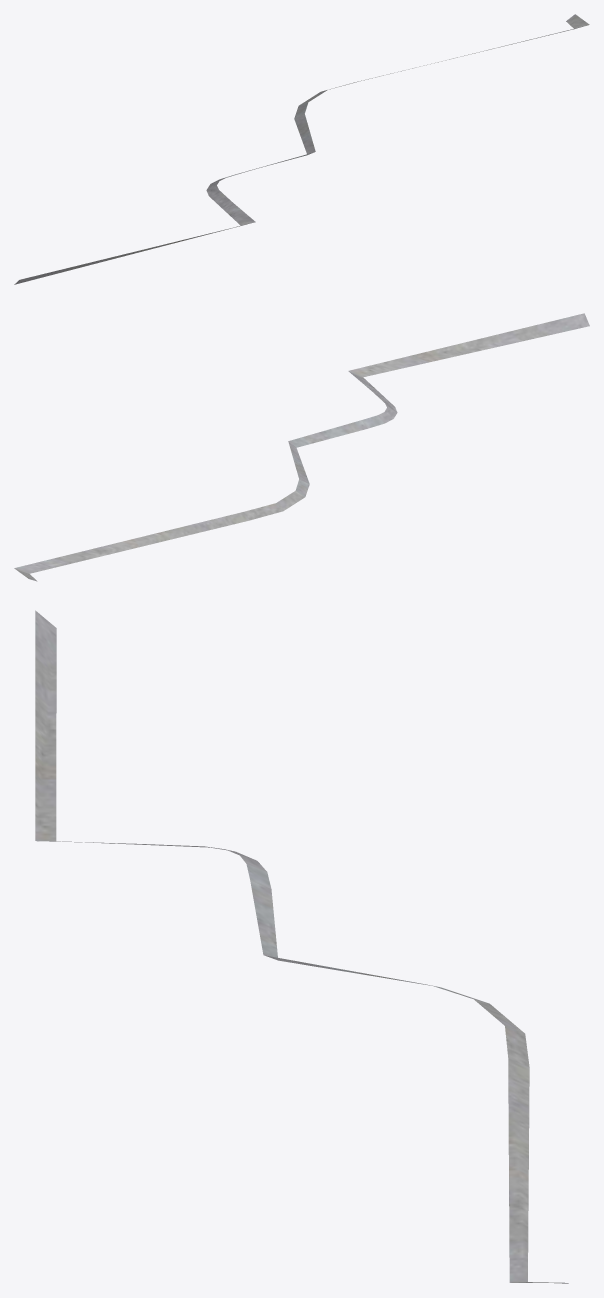
The model's file is TNI06.fbx.
3 views of the same model, one above another, from view 1: azimuth 30°, elevation 25°; view 2: azimuth 210°, elevation 25°; view 3: azimuth 270°, elevation 25° (orthographic). The views are drawn at different scales.
Parts seen in each view (by area): view 1: polySurface50; view 2: polySurface50; view 3: polySurface50.
Part boxes in pixels (box(x1,y1,x2,y2)): polySurface50: box(14, 14, 589, 284); polySurface50: box(14, 313, 589, 581); polySurface50: box(35, 610, 568, 1283).
Size of the model in its own units: 121 by 1.51 by 40.54.
Materials: 1 (1 with a texture image).
